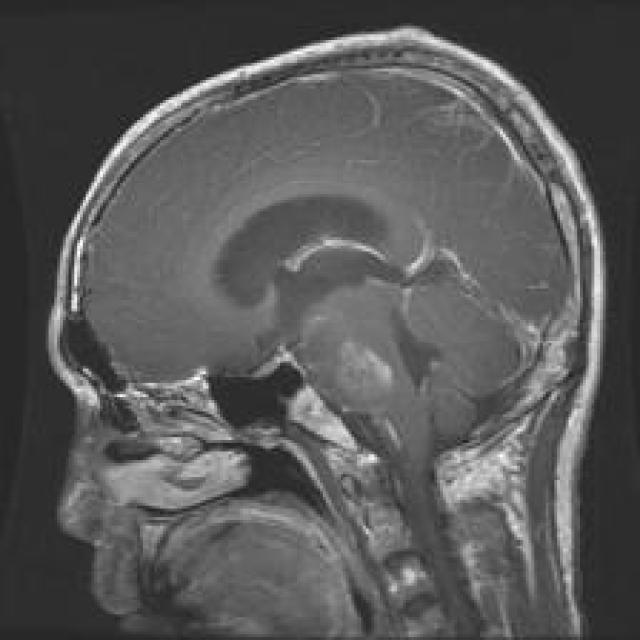glioma_tumor: (322, 326, 406, 424)
